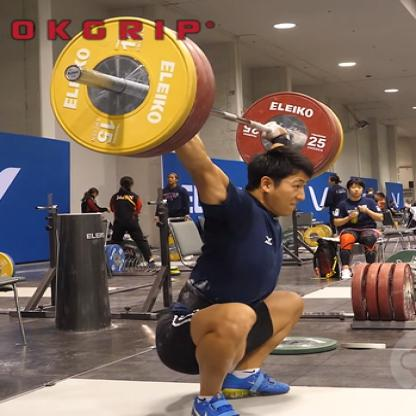Barbell: (44, 13, 215, 164)
